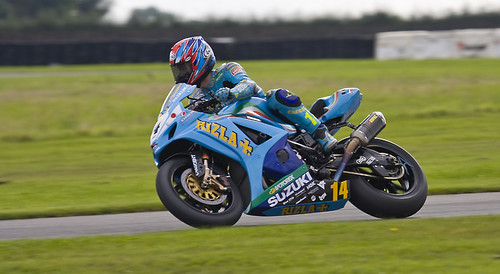helmet: (164, 31, 216, 86)
